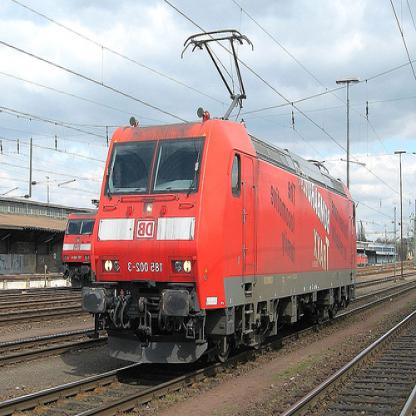train: (94, 117, 360, 377), (63, 214, 98, 280)
